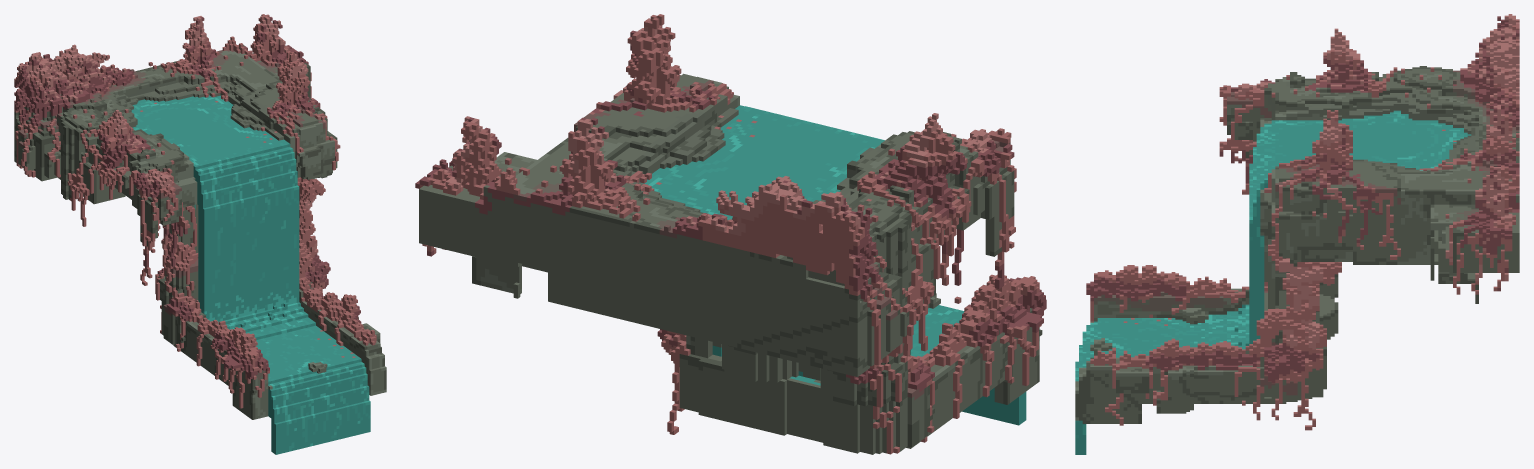
Rendered from water_contamination_model.glb.
3 views of the same model, side by side, from view 1: azimuth 30°, elevation 25°; view 2: azimuth 150°, elevation 25°; view 3: azimuth 270°, elevation 25° (orthographic). The views are drawn at different scales.
Visible parts, largest first — view 1: ObjObject.005_6; view 2: ObjObject.005_6; view 3: ObjObject.005_6.
Boxes of the visible parts, left/top/right/bottom form: ObjObject.005_6: left=14, top=14, right=386, bottom=454; ObjObject.005_6: left=415, top=14, right=1046, bottom=454; ObjObject.005_6: left=1075, top=14, right=1519, bottom=454.
Size of the model in its own units: 10.9 by 10.7 by 12.
1 material, 1 textured.
